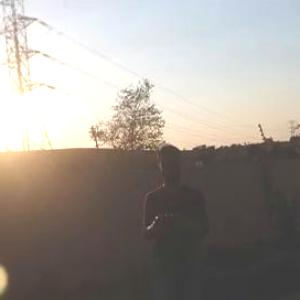follow: (138, 139, 216, 299)
